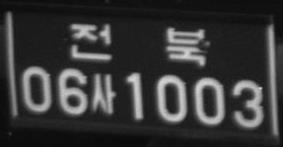0: (155, 73, 187, 123), (193, 76, 225, 126), (21, 64, 52, 113)
1: (122, 71, 148, 120)
3: (231, 78, 265, 129)
6: (57, 66, 88, 115)
사: (91, 72, 116, 116)
전북_D: (70, 22, 208, 67)
